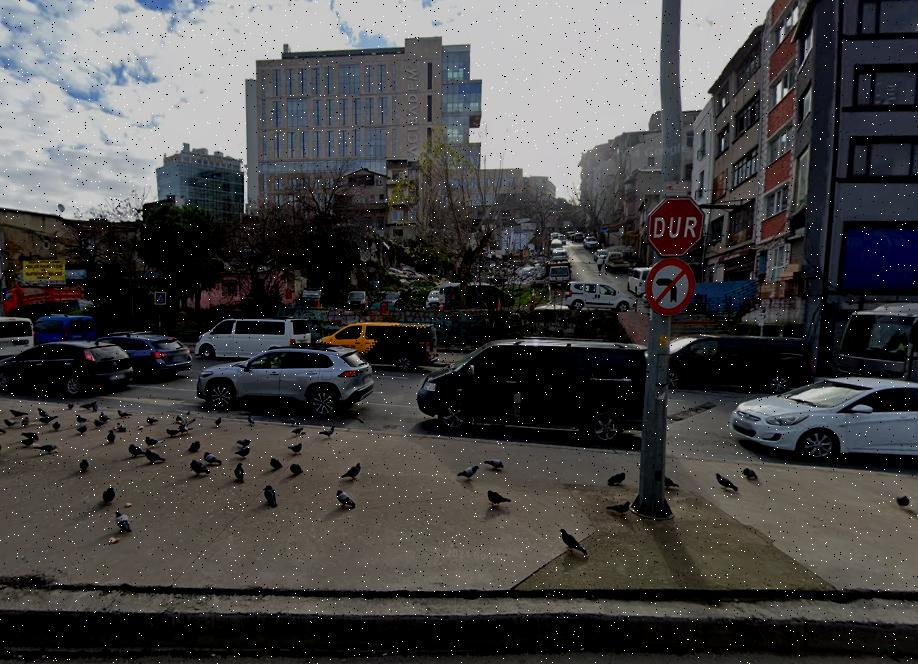leftturnsareforbidden: (648, 258, 695, 315)
stop: (647, 197, 704, 257)
